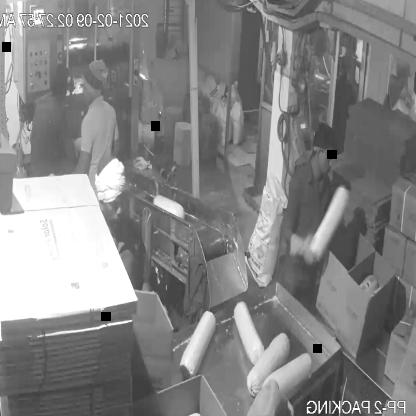glove: (287, 225, 319, 269)
